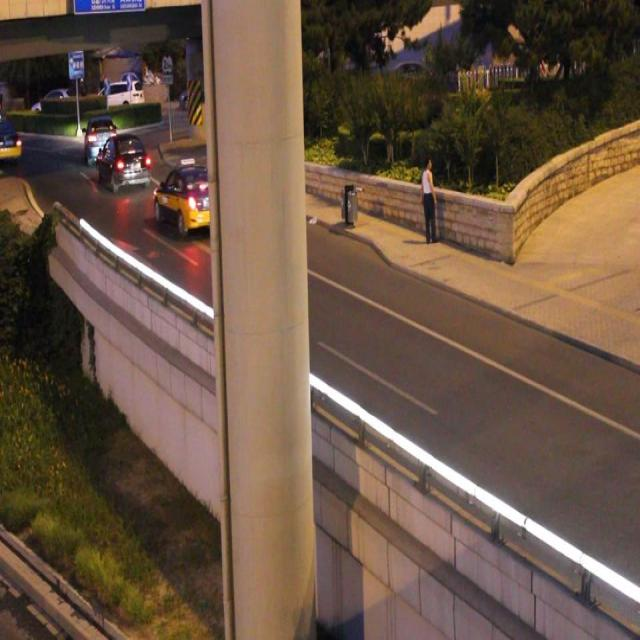car: (154, 166, 222, 230), (98, 139, 149, 186), (85, 119, 116, 163)
